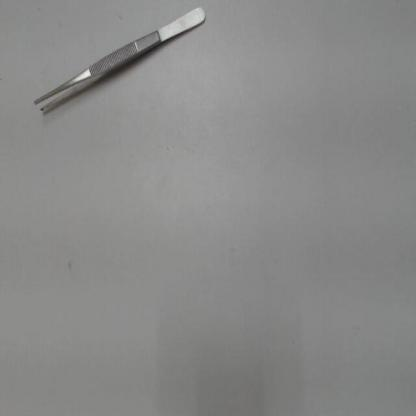Gillies Toothed Dissector: (23, 0, 221, 120)
